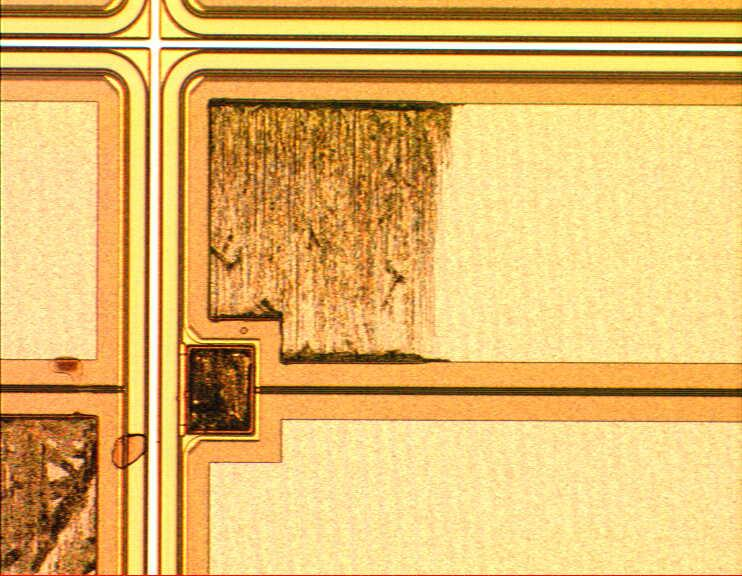SEZ BURNT: (2, 98, 476, 575)
